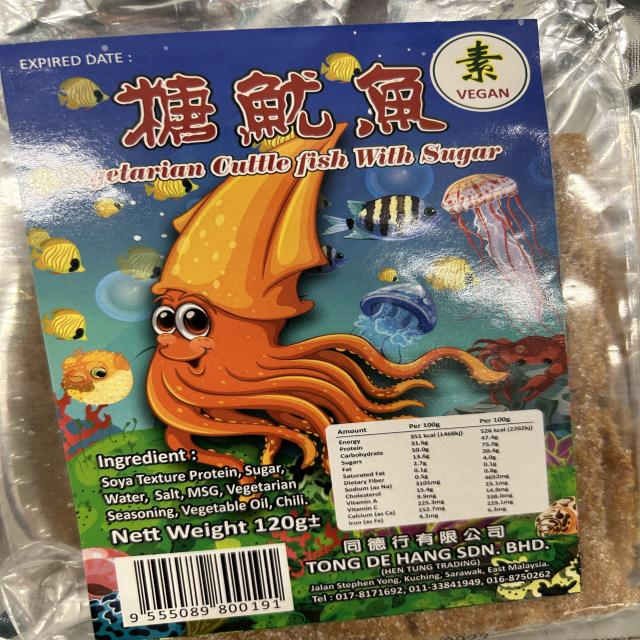object_name: (8, 1, 639, 640)
